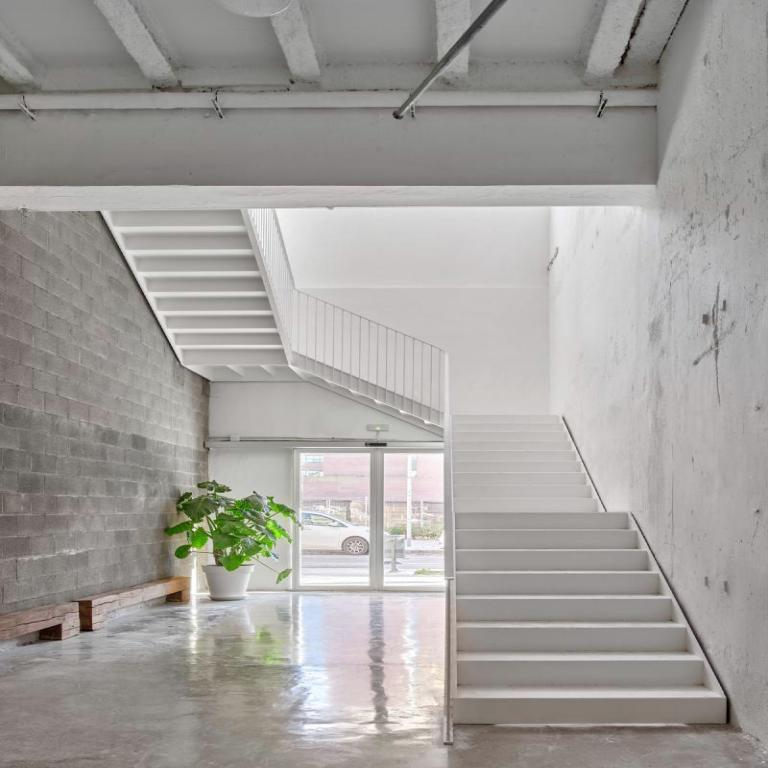white-walls: (342, 222, 528, 386)
